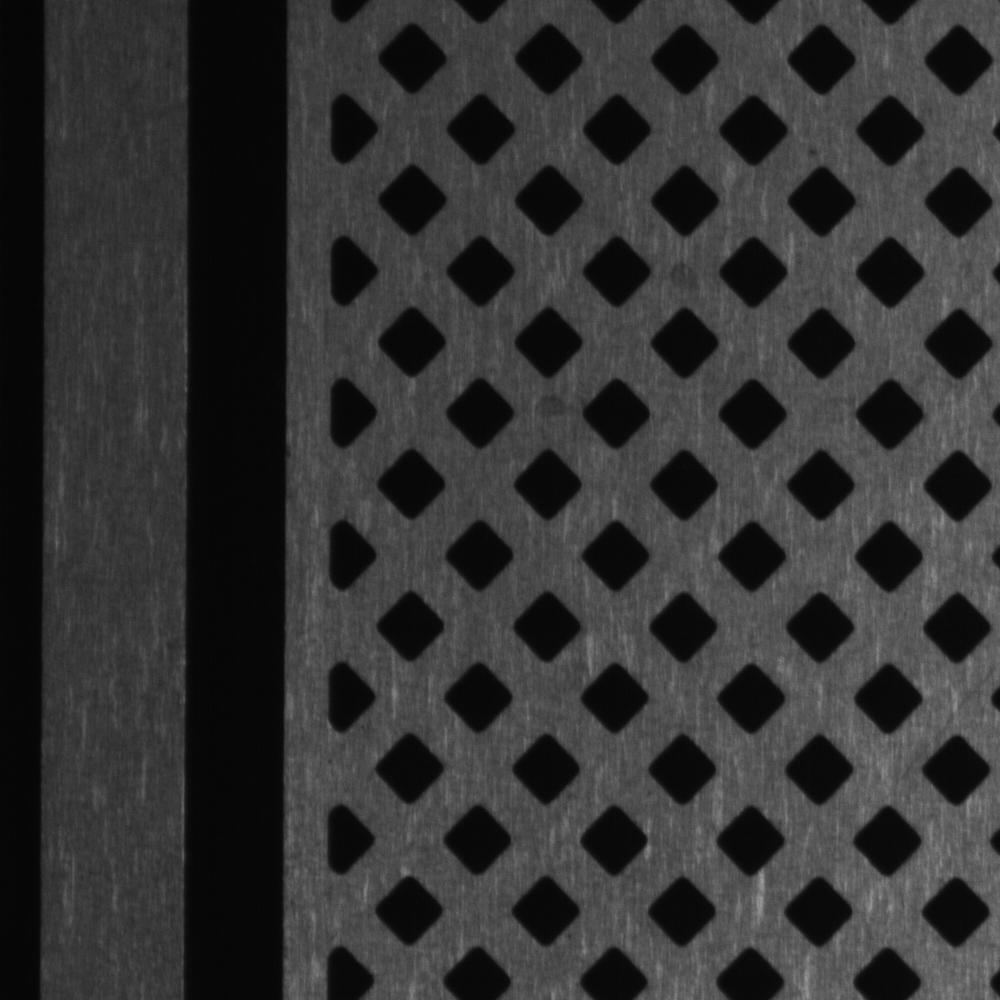Discolor: (659, 244, 711, 307), (524, 384, 588, 431)
